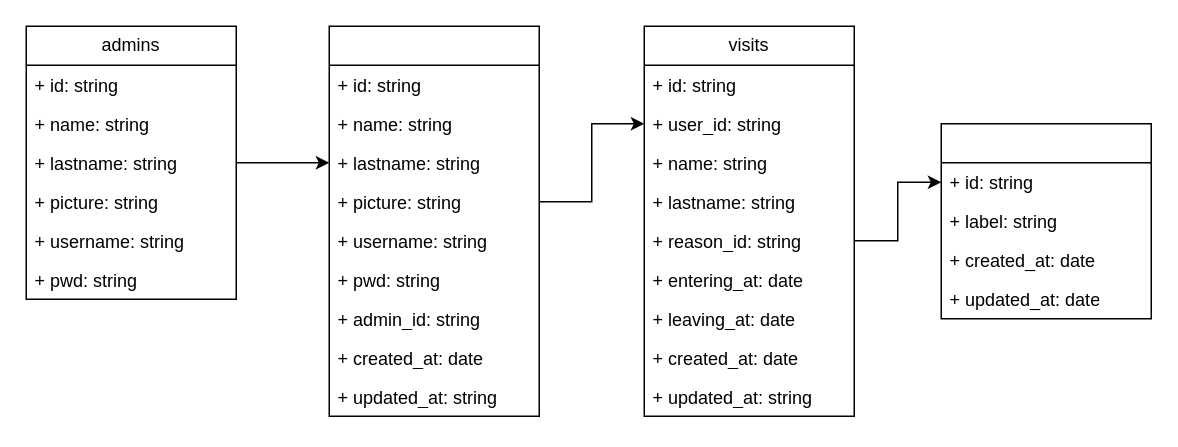
This 1178x447 diagram has some shape labels left out. The box of each missing label's shape, as (x1, y1, x2, y2) in pixels:
reasons: (940, 122, 1151, 319)
users: (328, 25, 539, 416)
